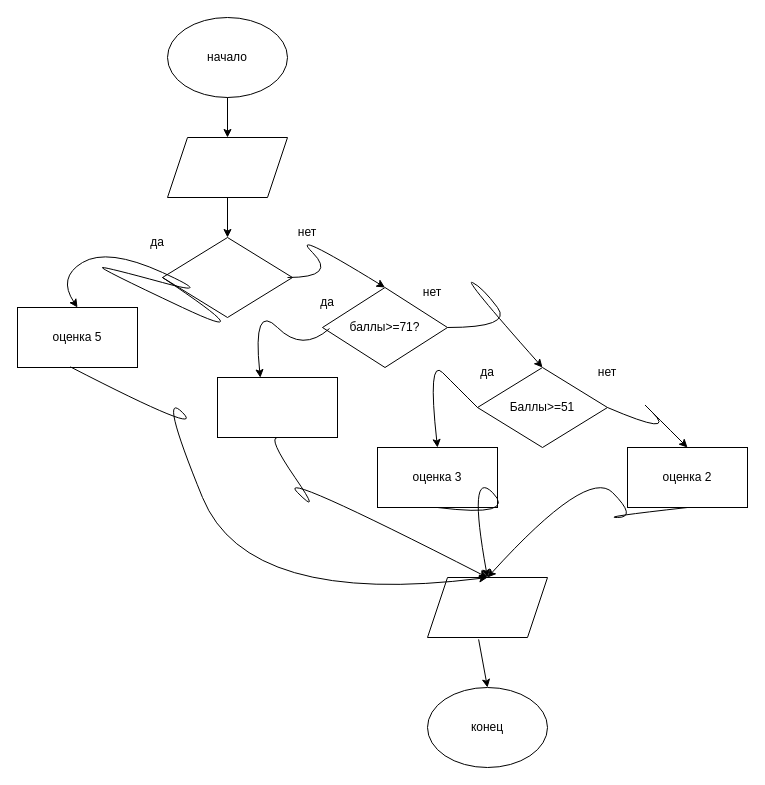
This 765x785 diagram has some shape labels left out. Each missing label, with the centre of its shape:
"баллы >=91?" belongs at (227,277).
"Ввод балллы" belongs at (227,167).
"Вывод баллы" belongs at (487,607).
"оценка 4" belongs at (277,407).
